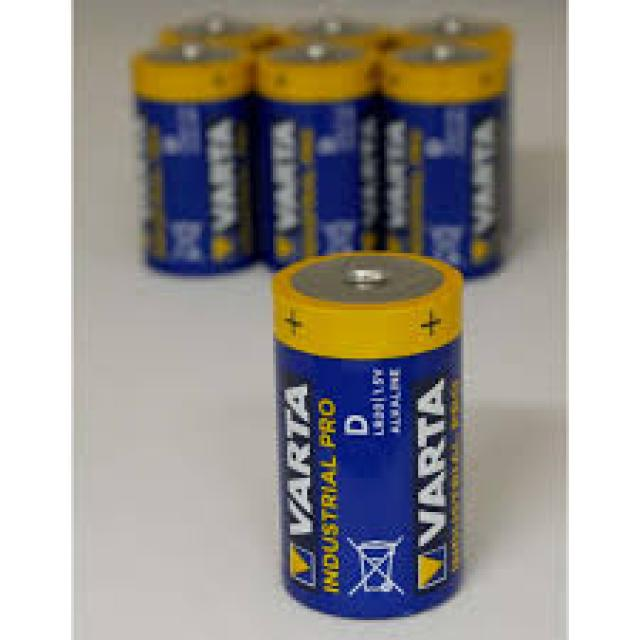non-organic waste: (274, 248, 463, 622), (380, 19, 520, 239), (130, 36, 253, 284), (382, 46, 506, 285), (255, 40, 383, 271), (279, 13, 394, 68), (167, 15, 281, 56)
